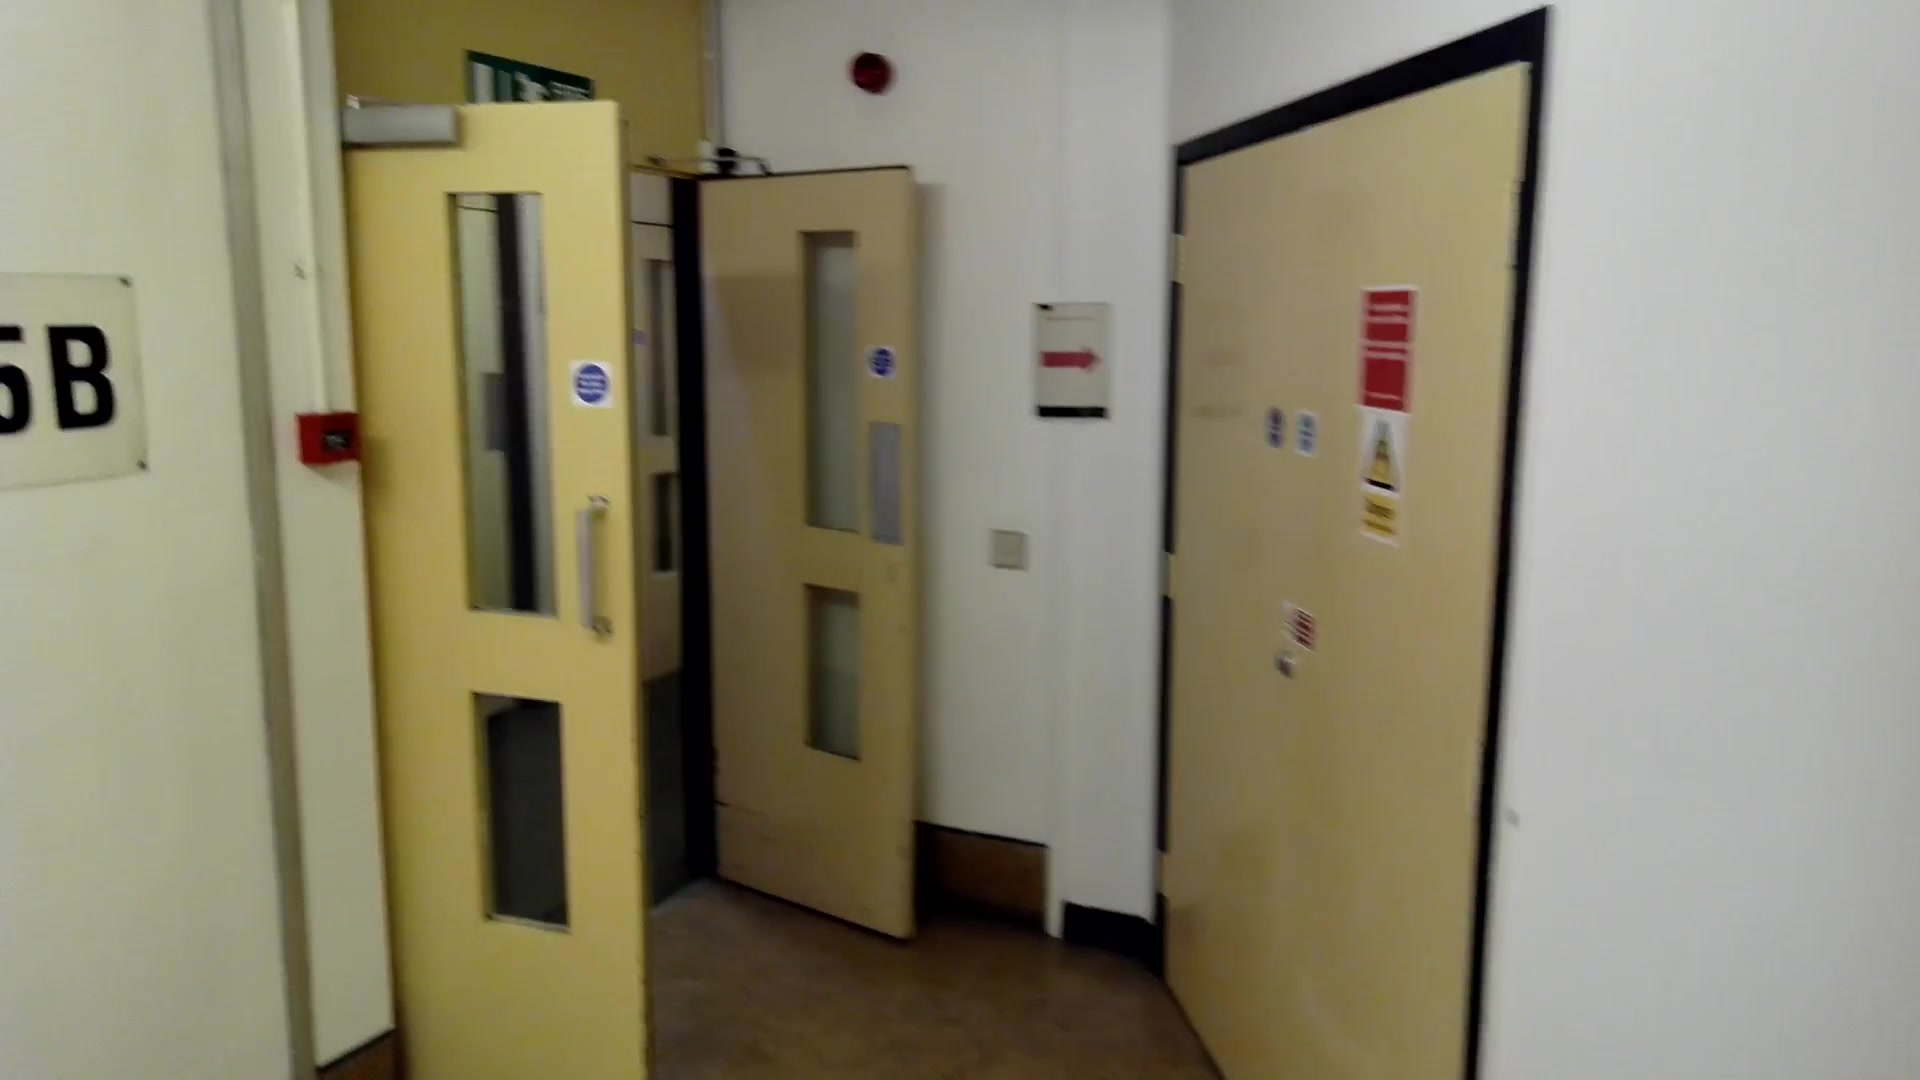Door: (324, 87, 657, 1080), (688, 161, 938, 967)
